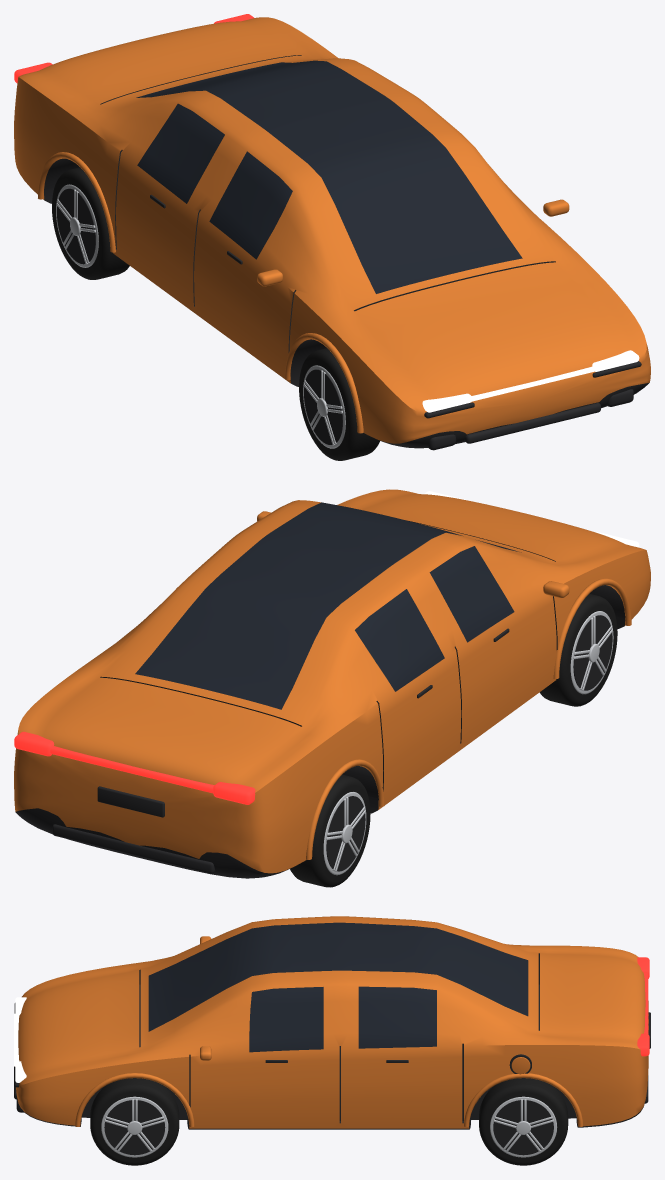
File: sedan.glb
The picture shows the model from 3 angles, top to bottom: view 1: azimuth 30°, elevation 25°; view 2: azimuth 150°, elevation 25°; view 3: azimuth 270°, elevation 25°; orthographic projection. The views are drawn at different scales.
Visible parts, largest first — view 1: sedan; view 2: sedan; view 3: sedan.
Boxes of the visible parts, x1,y1,x2,y2 form: sedan: (14, 14, 650, 460); sedan: (14, 489, 650, 887); sedan: (14, 916, 650, 1165).
Bounding box in the file's own units: 2.13 × 1.44 × 4.85.
